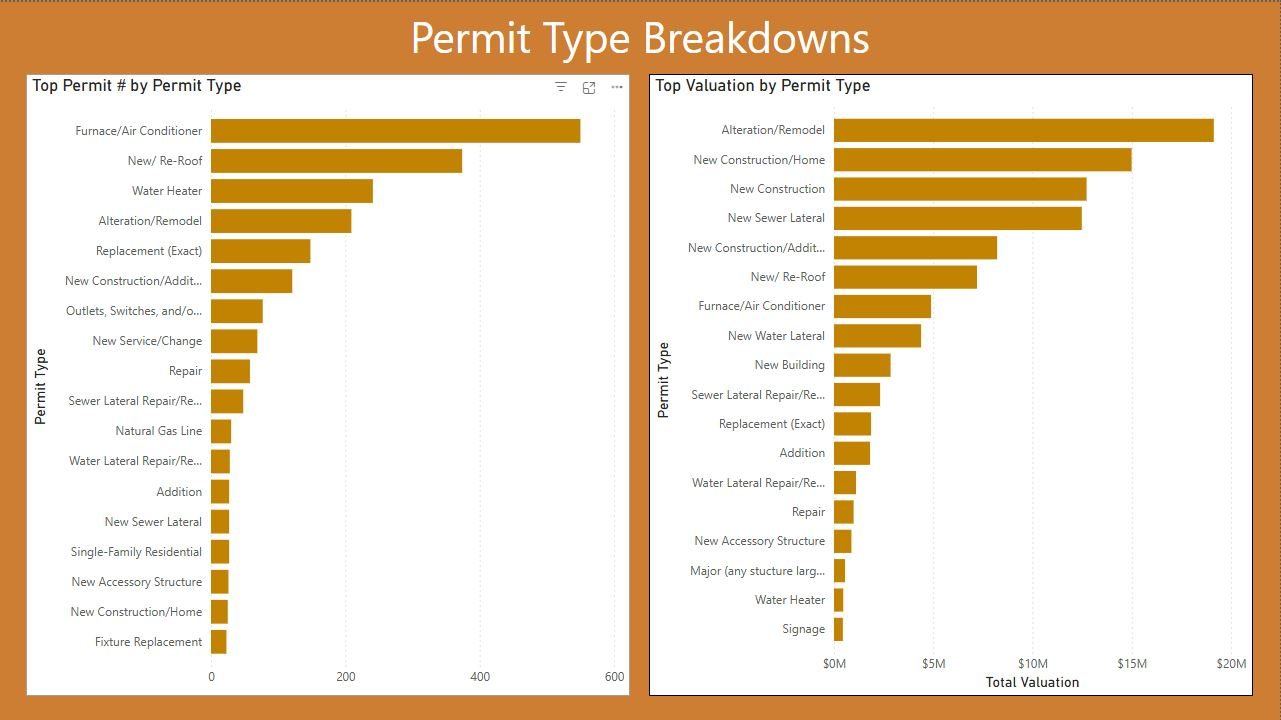

This screenshot's page, from the dashboard's own definition file:
{"tool":"powerbi","page":{"name":"Permit Types","canvas":[1280,720],"ordinal":2},"visuals":[{"type":"barChart","title":"Top Permit # by Permit Type","fields":{"Category":["permits_gold.Permit Type"],"Y":["permits_gold.Total Permits"]},"box":[25.9,71.6,604.3,622.4],"z":0},{"type":"barChart","title":"Top Valuation by Permit Type","fields":{"Category":["permits_gold.Permit Type"],"Y":["permits_gold.Total Valuation"]},"box":[649.1,71.6,604.3,622.4],"z":1000},{"type":"textbox","box":[0,0,1280.2,71.6],"z":2000}]}

Visuals, with their boxes in screenshot pixels (x1, y1, x2, y2), scaled from the page's 1280x720 canvas onto the 1281x720 screenshot:
"Top Permit # by Permit Type" barChart: left=26, top=72, right=631, bottom=694
"Top Valuation by Permit Type" barChart: left=650, top=72, right=1254, bottom=694
textbox: left=0, top=0, right=1280, bottom=72
